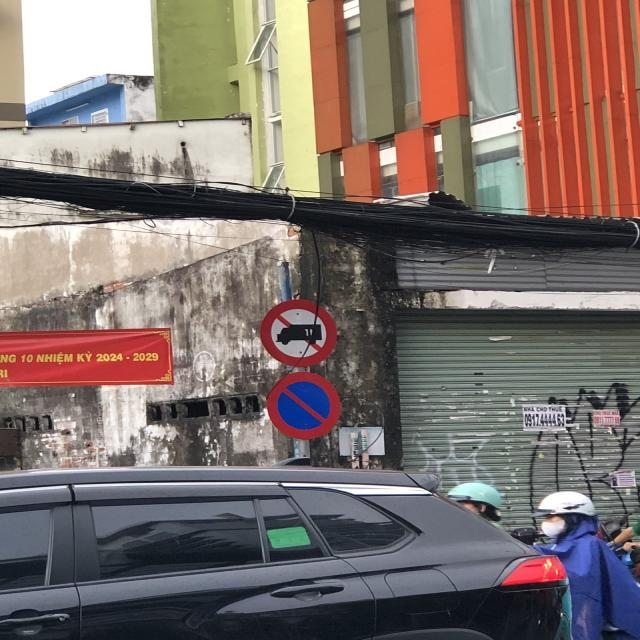Bien bao cam do xe: (255, 369, 346, 438)
Bien bao cam xe oto tai: (257, 295, 344, 367)
